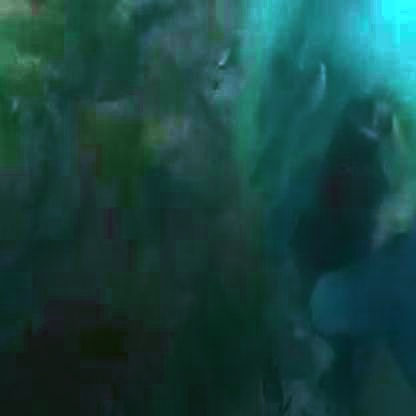misc: (304, 104, 394, 310)
